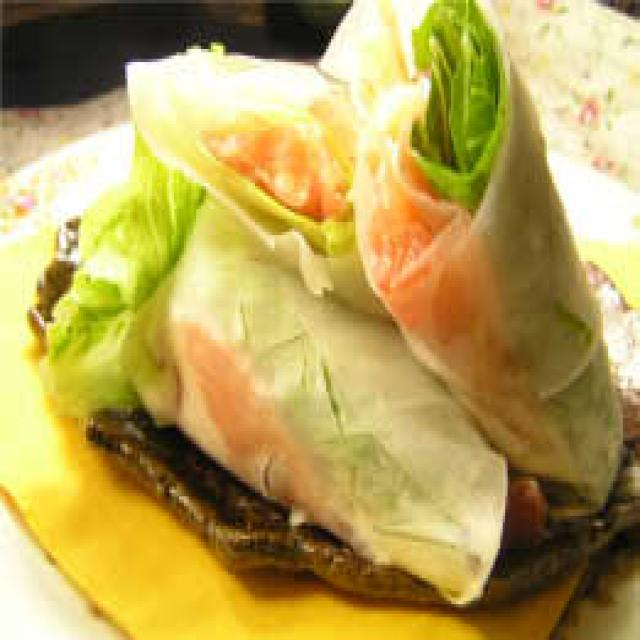鸡蛋料理: (24, 0, 640, 614)
